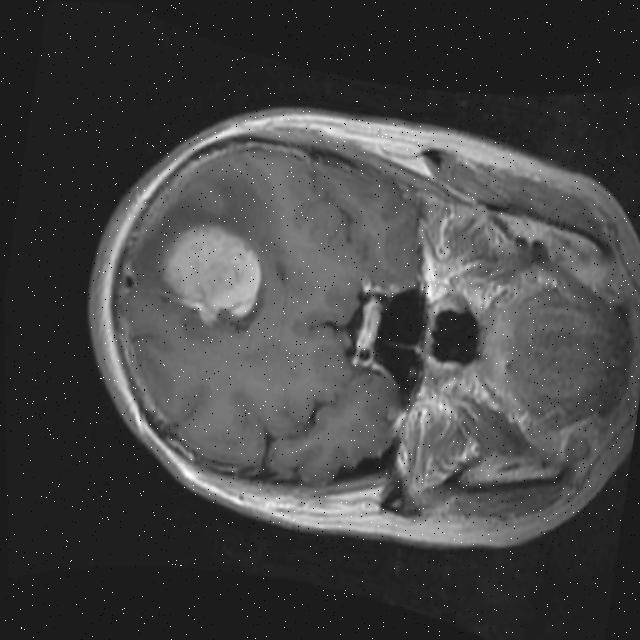Meningioma: (154, 216, 269, 336)
